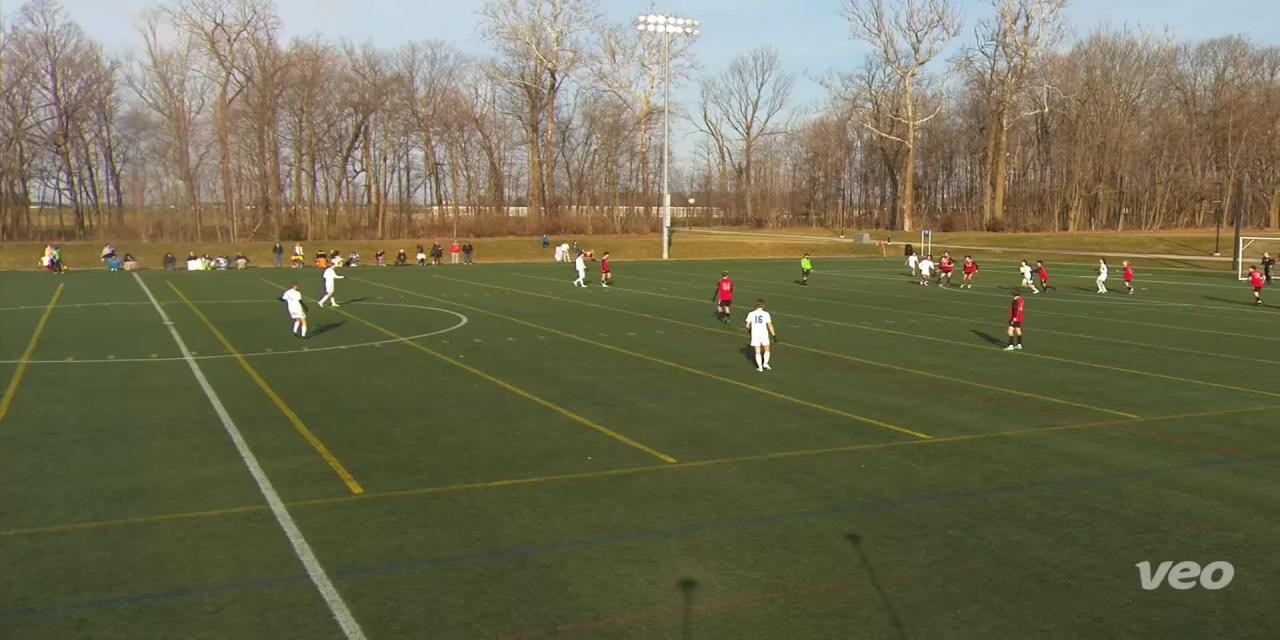sports ball: (685, 193, 700, 216)
